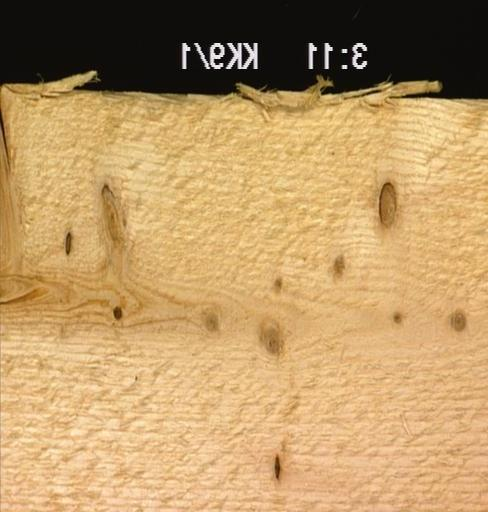dry_knot: (378, 180, 398, 228), (273, 451, 282, 480)
small_knot: (330, 252, 346, 284), (388, 305, 405, 327), (111, 304, 123, 320)
sound_knot: (256, 318, 286, 354), (203, 309, 219, 333), (452, 310, 467, 332), (268, 274, 282, 295)
